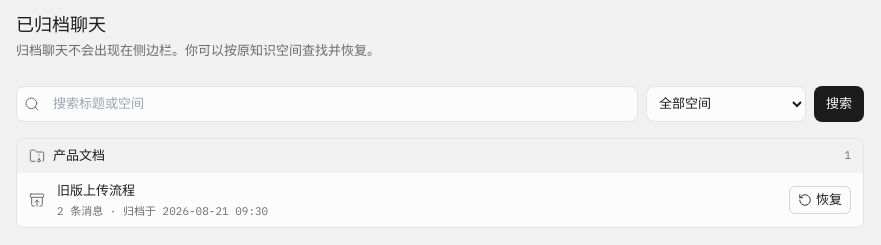
Test case: ArchivedChatsView › removes a restored session after server confirmation
Click the button with aria-label "恢复会话 旧版上传流程" at (820, 200), box top-left (789, 186), bottom-right (851, 214)
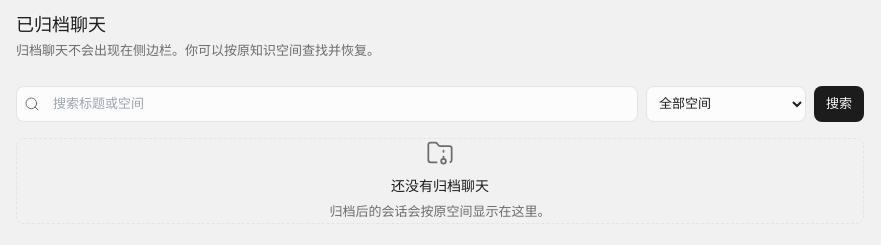
Expected: the text "旧版上传流程" is gone
